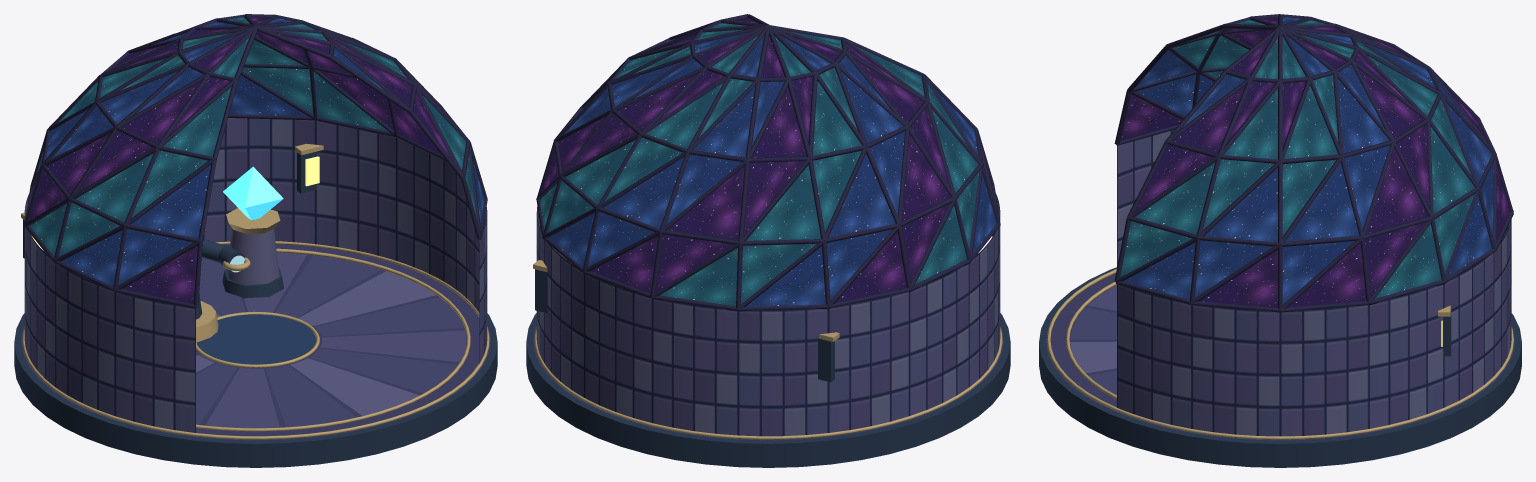
File: observatory.glb
The picture shows the model from 3 angles, left to right: view 1: azimuth 30°, elevation 25°; view 2: azimuth 150°, elevation 25°; view 3: azimuth 270°, elevation 25°; orthographic projection.
Visible parts, largest first — view 1: ObservatoryFloor, TiledLowerWall, StarPanels, DomeRibs, StarDisplay, ObservatoryInterior, Eyepiece, TelescopeMount; view 2: StarPanels, TiledLowerWall, DomeRibs, ObservatoryFloor, ObservatoryInterior; view 3: StarPanels, TiledLowerWall, DomeRibs, ObservatoryFloor, ObservatoryInterior.
Part boxes in pixels (<box>): ObservatoryFloor: <box>14,241,497,467</box>; TiledLowerWall: <box>24,118,487,432</box>; StarPanels: <box>29,17,484,304</box>; DomeRibs: <box>24,14,487,309</box>; StarDisplay: <box>222,166,283,298</box>; ObservatoryInterior: <box>21,143,323,258</box>; Eyepiece: <box>201,239,250,273</box>; TelescopeMount: <box>196,294,218,343</box>; StarPanels: <box>539,17,996,306</box>; TiledLowerWall: <box>536,193,1000,436</box>; DomeRibs: <box>536,14,1000,311</box>; ObservatoryFloor: <box>526,284,1010,467</box>; ObservatoryInterior: <box>533,260,839,382</box>; StarPanels: <box>1120,17,1510,307</box>; TiledLowerWall: <box>1117,130,1511,436</box>; DomeRibs: <box>1114,14,1513,312</box>; ObservatoryFloor: <box>1039,267,1521,467</box>; ObservatoryInterior: <box>1438,305,1451,356</box>.
Size of the model in its own units: 8.4 by 6.52 by 8.4.
43 materials, 4 textured.
